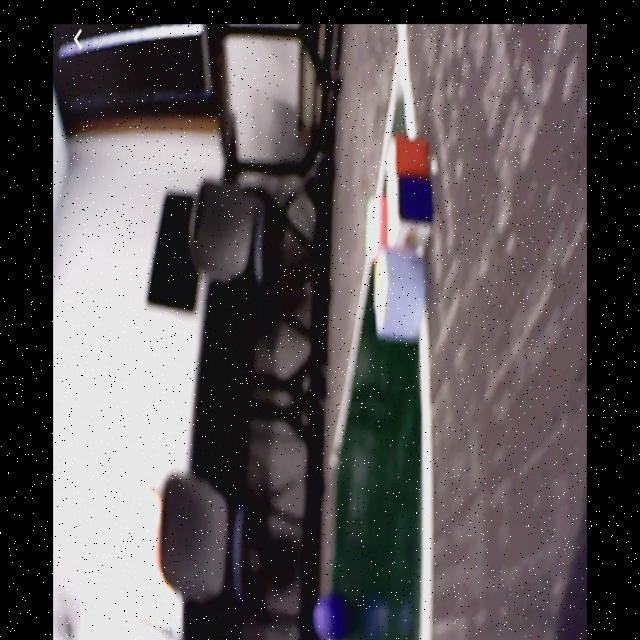ball: (313, 594, 353, 640)
